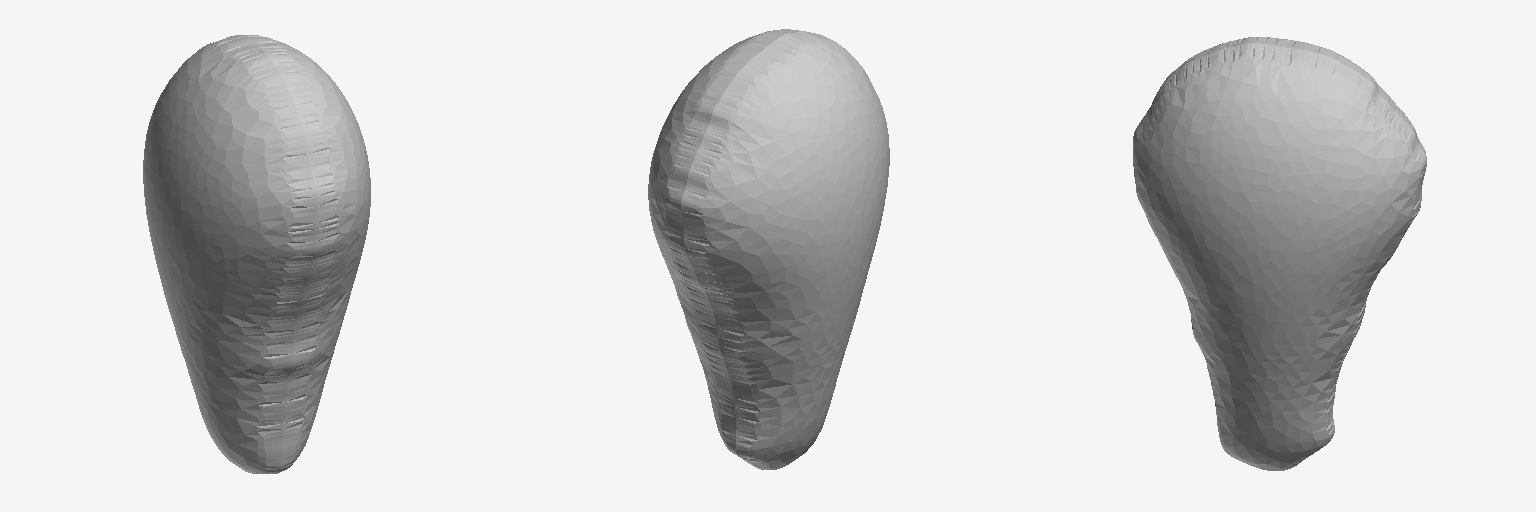
Rendered from Light.obj.
The picture shows the model from 3 angles: view 1: azimuth 30°, elevation 25°; view 2: azimuth 150°, elevation 25°; view 3: azimuth 270°, elevation 25°; orthographic projection.
Parts seen in each view (by area): view 1: Mesh_0; view 2: Mesh_0; view 3: Mesh_0.
Boxes of the visible parts, x1,y1,x2,y2 form: Mesh_0: [143, 35, 370, 473]; Mesh_0: [648, 29, 889, 469]; Mesh_0: [1133, 37, 1426, 470].
Size of the model in its own units: 1.85 by 4 by 2.52.